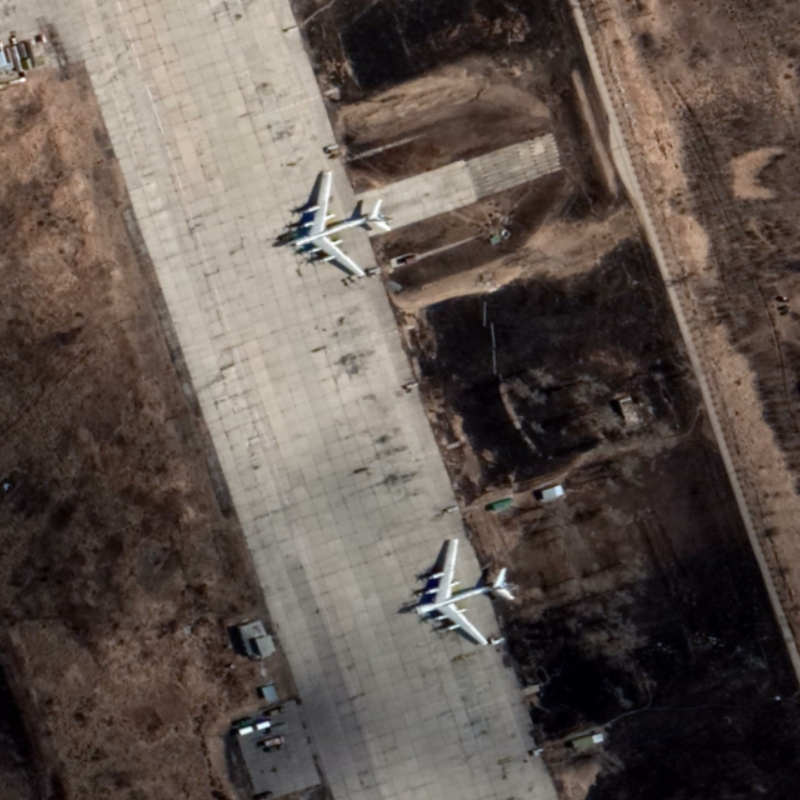A17: (407, 536, 522, 648), (287, 168, 395, 279)
